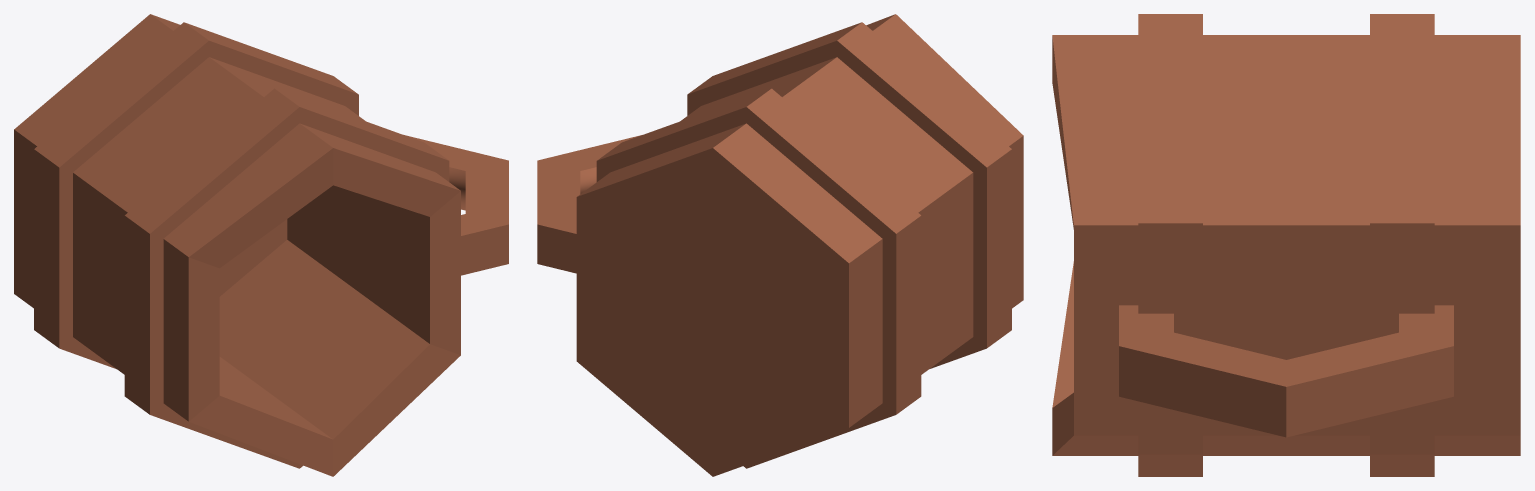
Rendered from wooden_beer_mug_visual.obj.
3 renders of one model, left to right at view 1: azimuth 30°, elevation 25°; view 2: azimuth 150°, elevation 25°; view 3: azimuth 270°, elevation 25°, orthographic. The views are drawn at different scales.
Parts seen in each view (by area): view 1: mug_ID7.004; view 2: mug_ID7.004; view 3: mug_ID7.004.
Part boxes in pixels (<box>): mug_ID7.004: <box>14,14,508,476</box>; mug_ID7.004: <box>537,14,1023,476</box>; mug_ID7.004: <box>1052,14,1520,476</box>.
Size of the model in its own units: 0.3437 by 0.2851 by 0.2614.
